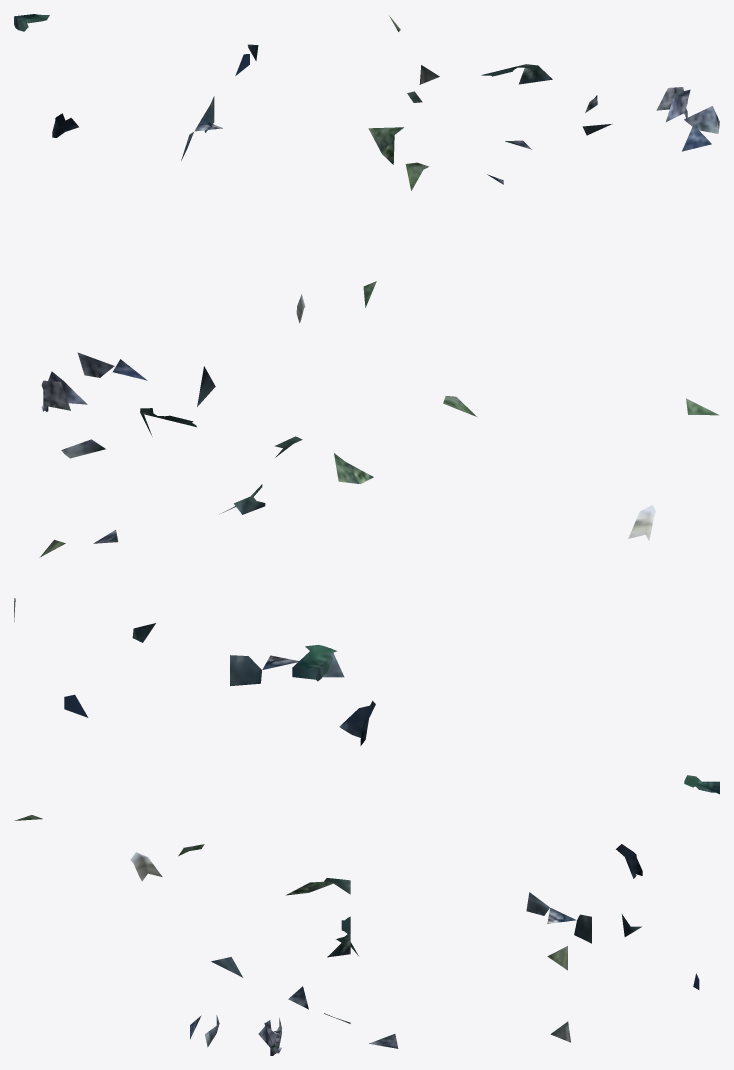
3 renders of one model, top to bottom at view 1: azimuth 30°, elevation 25°; view 2: azimuth 150°, elevation 25°; view 3: azimuth 270°, elevation 25°, orthographic. The views are drawn at different scales.
Visible parts, largest first — view 1: 30436272704361716731_1; view 2: 30436272704361716731_1; view 3: 30436272704361716731_1.
Boxes of the visible parts, left/top/right/bottom form: 30436272704361716731_1: left=14, top=14, right=719, bottom=323; 30436272704361716731_1: left=14, top=352, right=719, bottom=745; 30436272704361716731_1: left=14, top=775, right=719, bottom=1055.
Size of the model in its own units: 27.46 by 6.16 by 36.56.
Materials: 1 (1 with a texture image).
